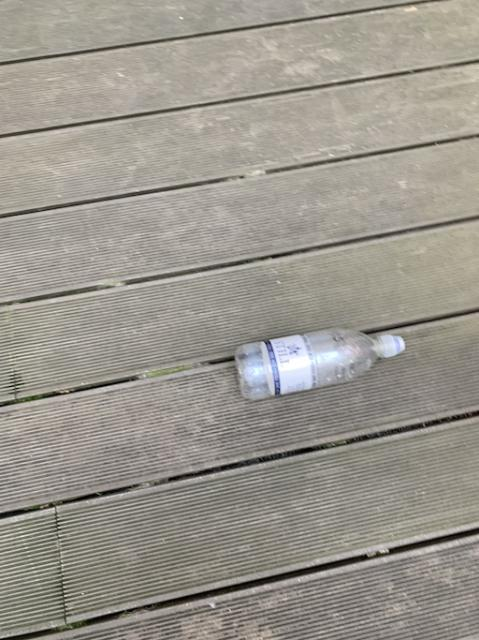plastic: (234, 327, 404, 398)
